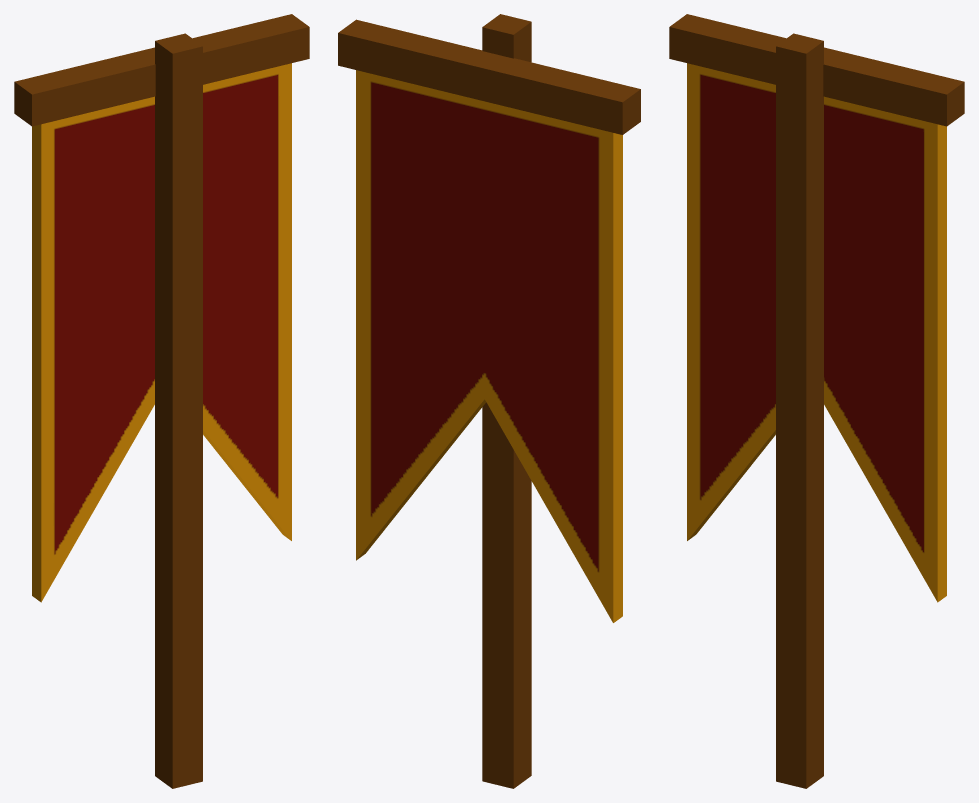
Rendered from Flag.fbx.
The picture shows the model from 3 angles, left to right: view 1: azimuth 30°, elevation 25°; view 2: azimuth 150°, elevation 25°; view 3: azimuth 330°, elevation 25°; orthographic projection. The views are drawn at different scales.
Parts seen in each view (by area): view 1: Banner.002; view 2: Banner.002; view 3: Banner.002.
Part boxes in pixels (<box>): Banner.002: <box>14,14,309,788</box>; Banner.002: <box>338,14,640,788</box>; Banner.002: <box>669,14,964,788</box>.
Bounding box in the file's own units: 90.86 × 230 × 19.66.
Materials: 3 (3 with a texture image).
